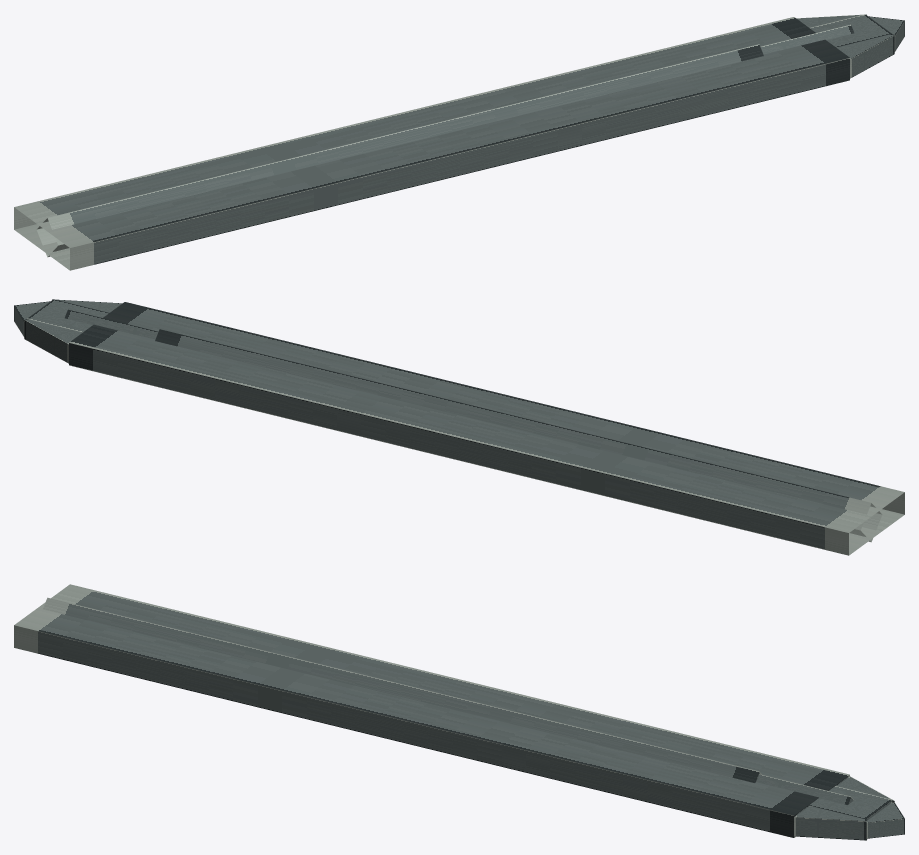
The model's file is bench_sword_1.obj.
The picture shows the model from 3 angles, top to bottom: view 1: azimuth 30°, elevation 25°; view 2: azimuth 150°, elevation 25°; view 3: azimuth 330°, elevation 25°; orthographic projection.
Visible parts, largest first — view 1: geometry; view 2: geometry; view 3: geometry.
Boxes of the visible parts, <box> form: geometry: <box>14,14,904,270</box>; geometry: <box>14,299,904,555</box>; geometry: <box>14,584,904,840</box>.
Size of the model in its own units: 0.75 by 0.0328 by 0.0844.
